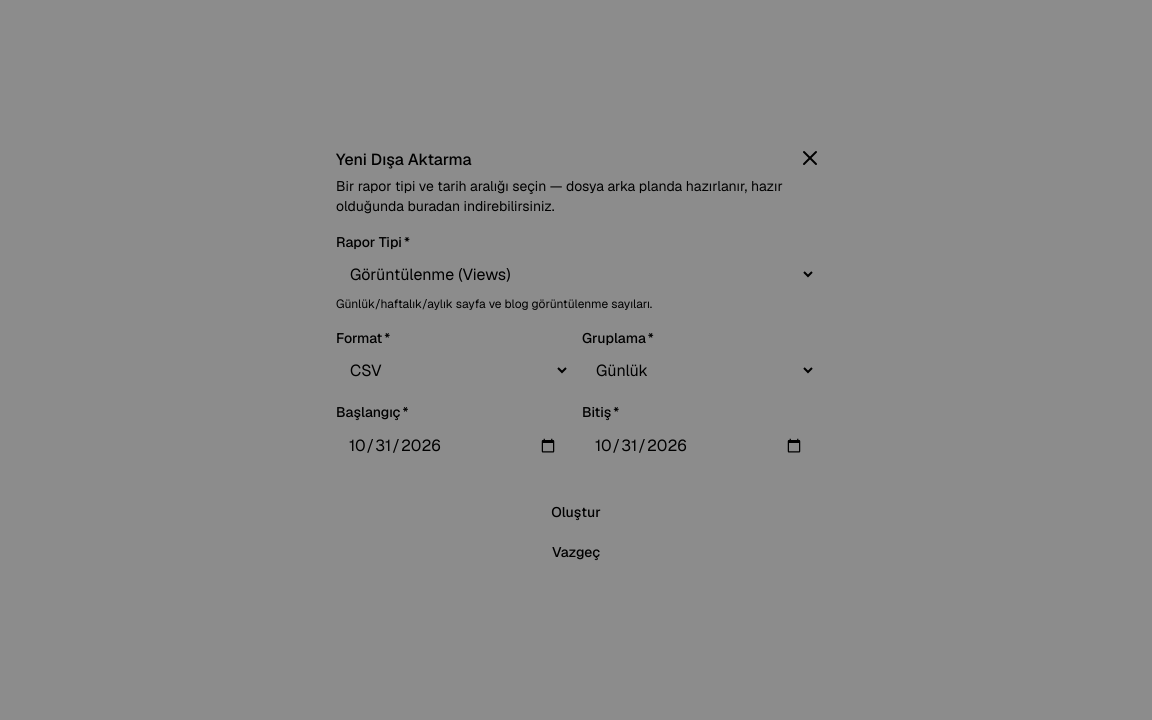
Test: CreateExportDialog — unmaskPii uyarısı yalnızca PII içerebilecek tiplerde görünür › tip USERS'a değiştirilince unmaskPii uyarısı VE rol filtresi görünür
Select "Kullanıcılar" in the dropdown labelled "Rapor Tipi*" at (576, 274), box [336, 258, 816, 290]
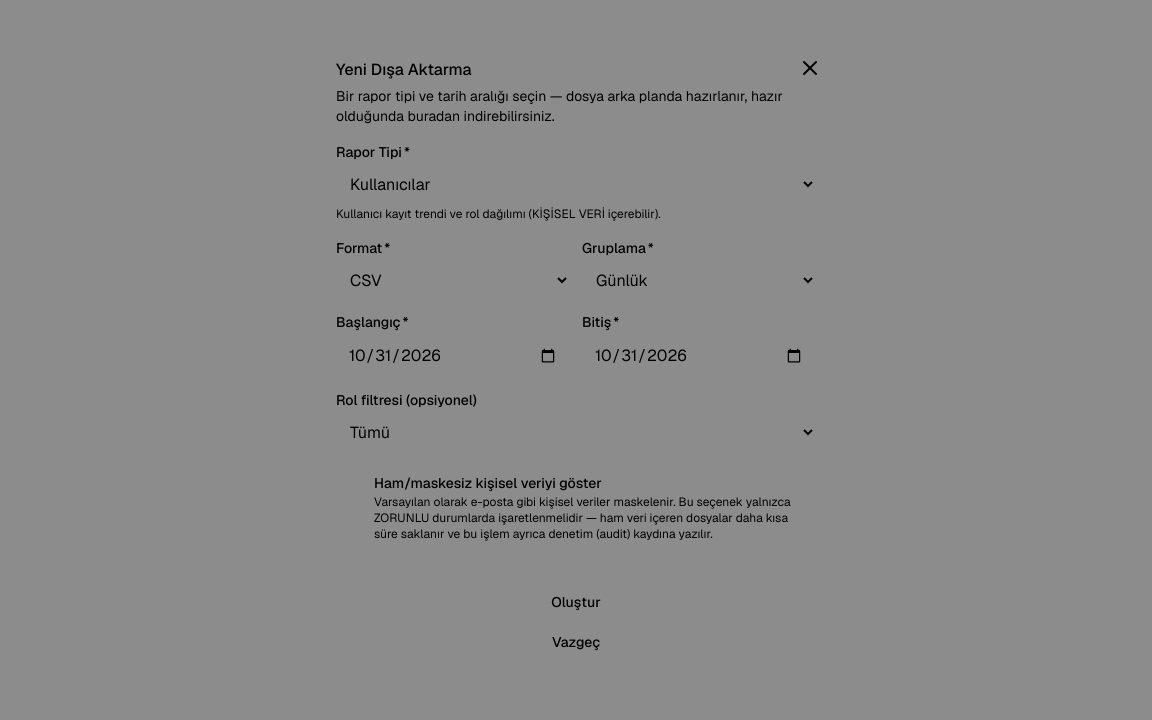
Now the dropdown labelled "Rol filtresi (opsiyonel)" is shown, box [336, 416, 816, 448]
